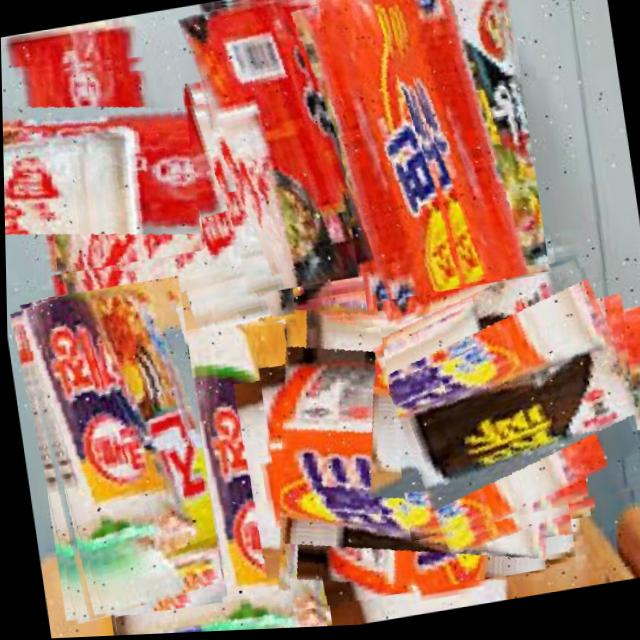Miscellaneous: (249, 282, 576, 614), (66, 305, 326, 638), (22, 77, 298, 368), (374, 266, 640, 546), (12, 275, 222, 626), (299, 0, 508, 335), (188, 0, 357, 301), (1, 41, 204, 283), (387, 0, 548, 295)
